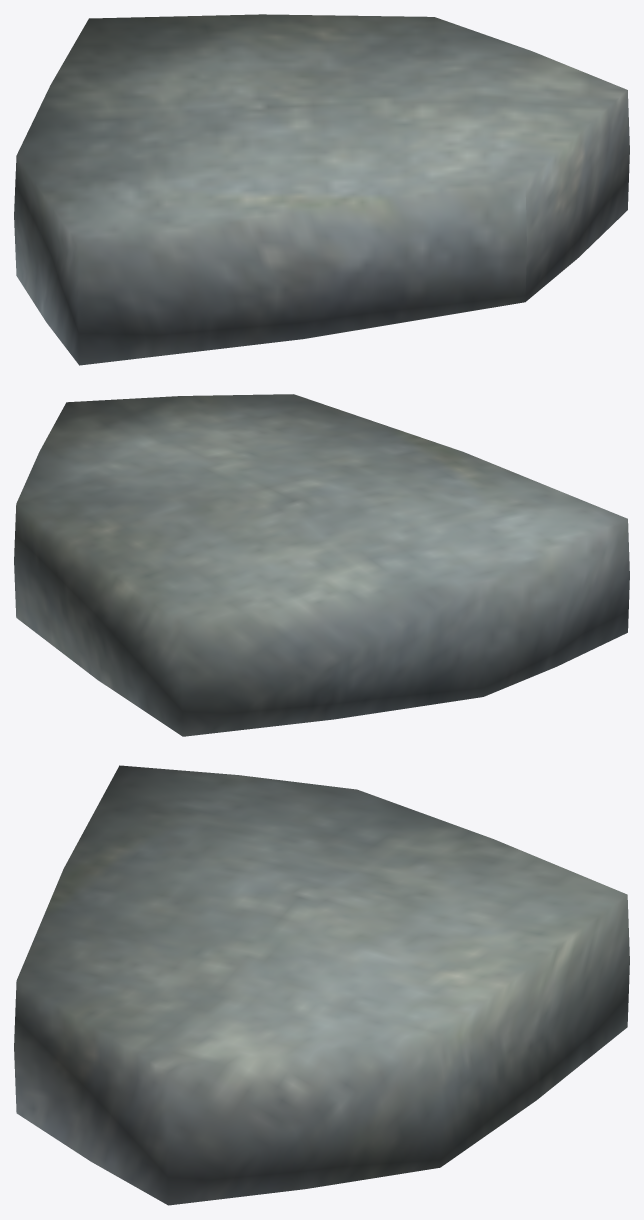
The model's file is rocks_002.fbx.
3 views of the same model, one above another, from view 1: azimuth 30°, elevation 25°; view 2: azimuth 150°, elevation 25°; view 3: azimuth 270°, elevation 25° (orthographic). The views are drawn at different scales.
Visible parts, largest first — view 1: rocks.002; view 2: rocks.002; view 3: rocks.002.
Part boxes in pixels (x1,y1,x2,y2): rocks.002: (14, 14, 629, 365); rocks.002: (14, 394, 629, 736); rocks.002: (14, 765, 629, 1205).
Bounding box in the file's own units: 74.02 × 18.07 × 62.31.
